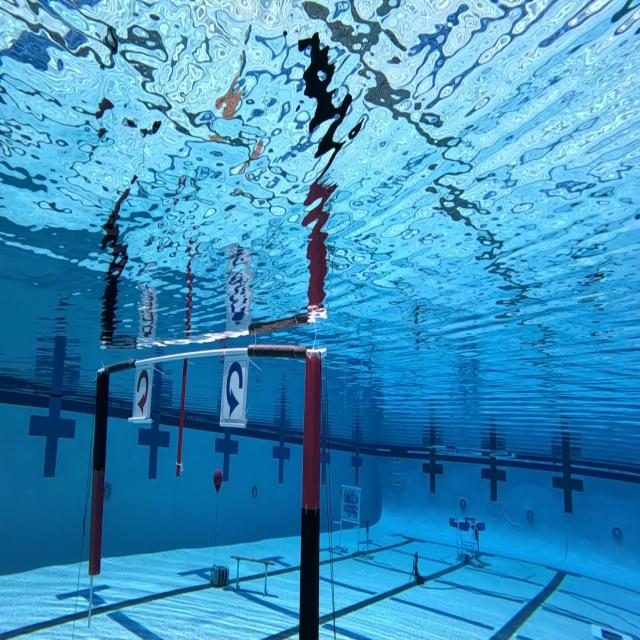blue_side: (220, 348, 250, 432)
red_side: (132, 360, 156, 426)
